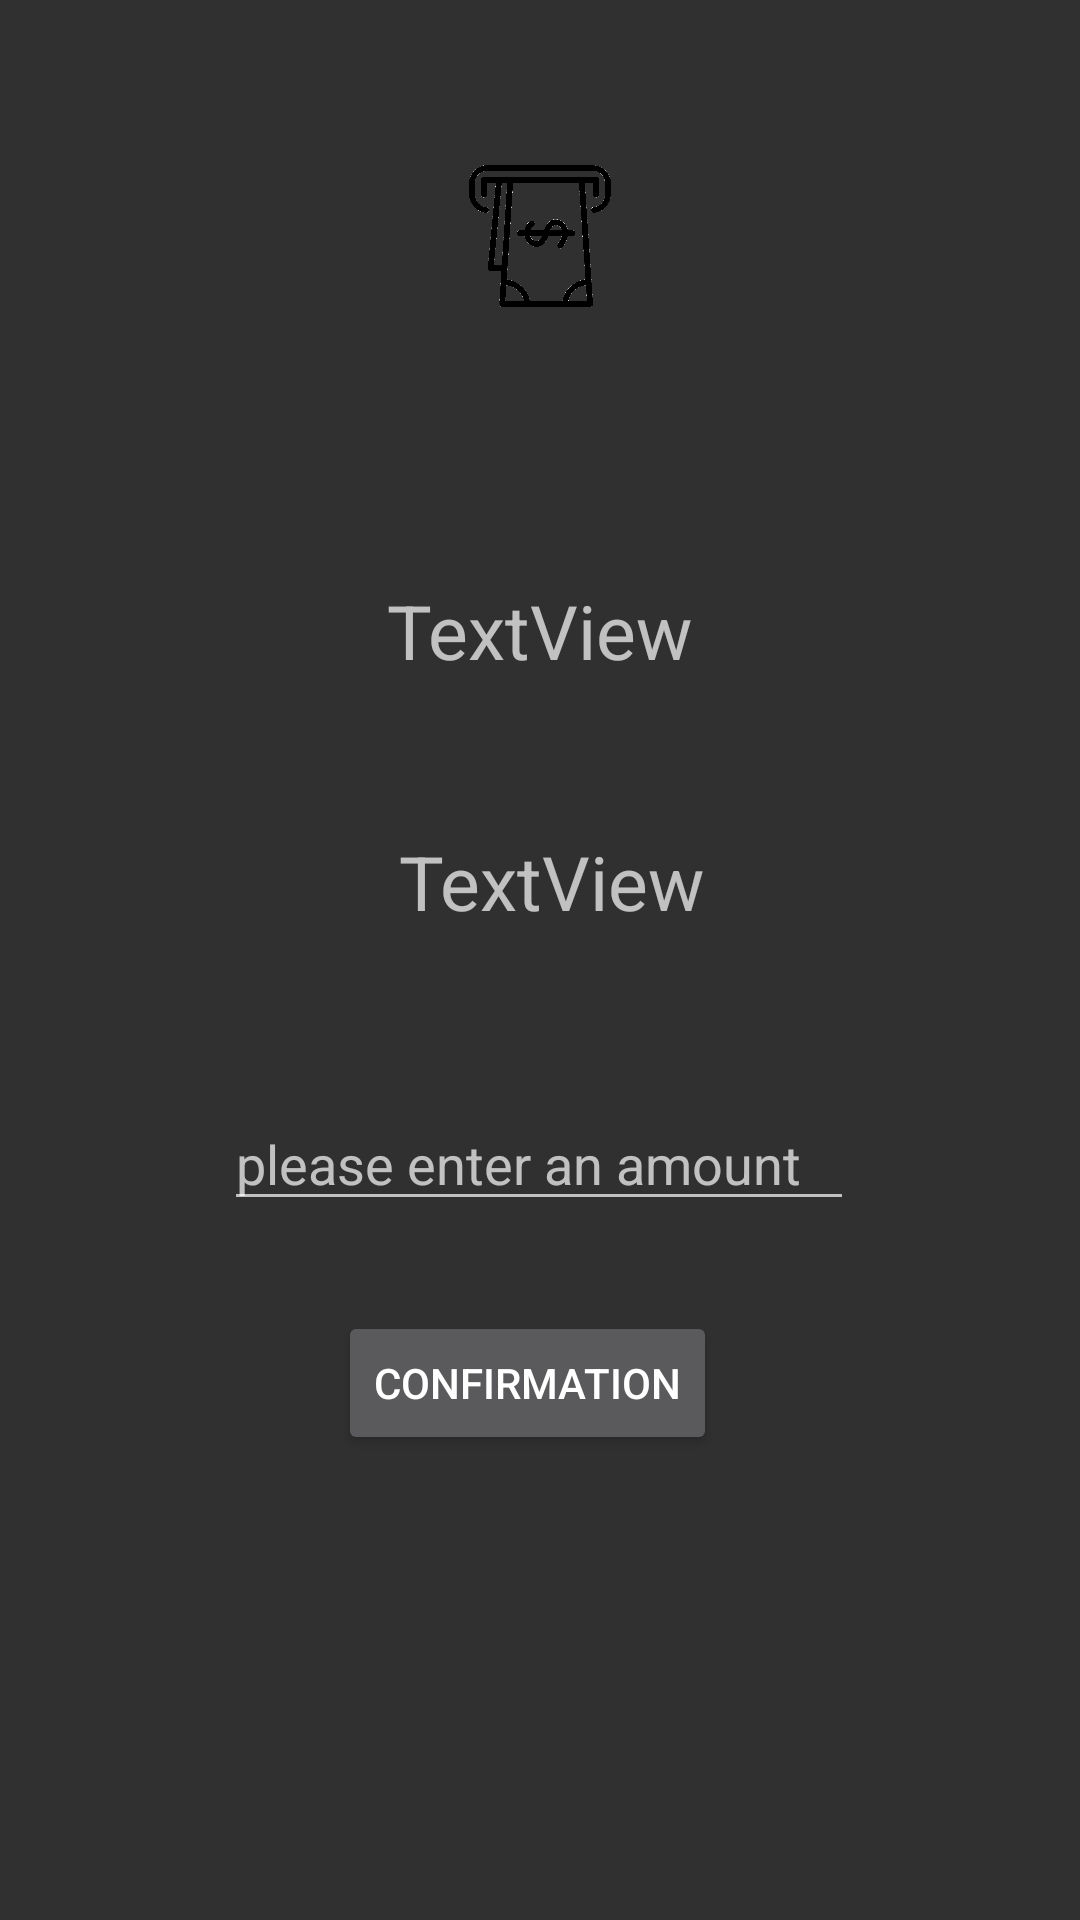

Screen size 1080×1920. Icon name, then its box in pixels as (x1, y1, x2, y2):
retiro: (469, 165, 611, 307)
